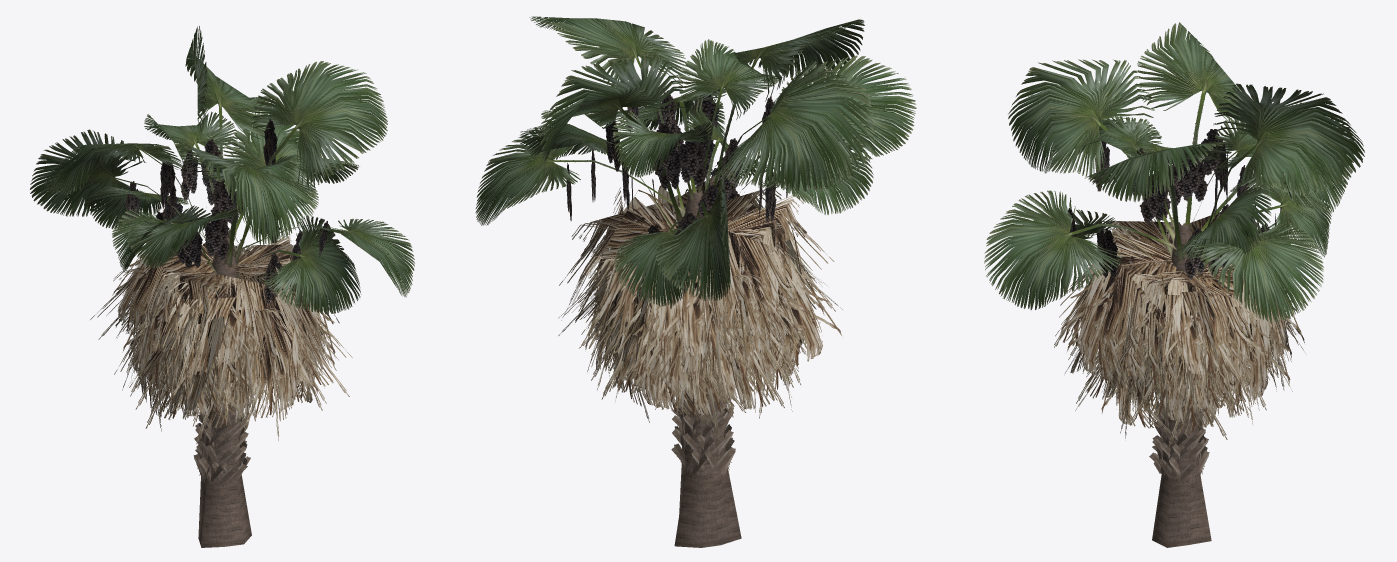
The model's file is Washingtonia_Filifera_Autumn_Young.glb.
3 views of the same model, side by side, from view 1: azimuth 30°, elevation 25°; view 2: azimuth 150°, elevation 25°; view 3: azimuth 270°, elevation 25° (orthographic). The views are drawn at different scales.
Parts seen in each view (by area): view 1: Washingtonia_Filifera_Autumn_Young__LOD3; view 2: Washingtonia_Filifera_Autumn_Young__LOD3; view 3: Washingtonia_Filifera_Autumn_Young__LOD3.
Boxes of the visible parts, x1,y1,x2,y2 form: Washingtonia_Filifera_Autumn_Young__LOD3: (30,26,414,547); Washingtonia_Filifera_Autumn_Young__LOD3: (475,16,916,547); Washingtonia_Filifera_Autumn_Young__LOD3: (984,22,1364,547).
Bounding box in the file's own units: 5.43 × 6.36 × 5.16.
Materials: 3 (3 with a texture image).
